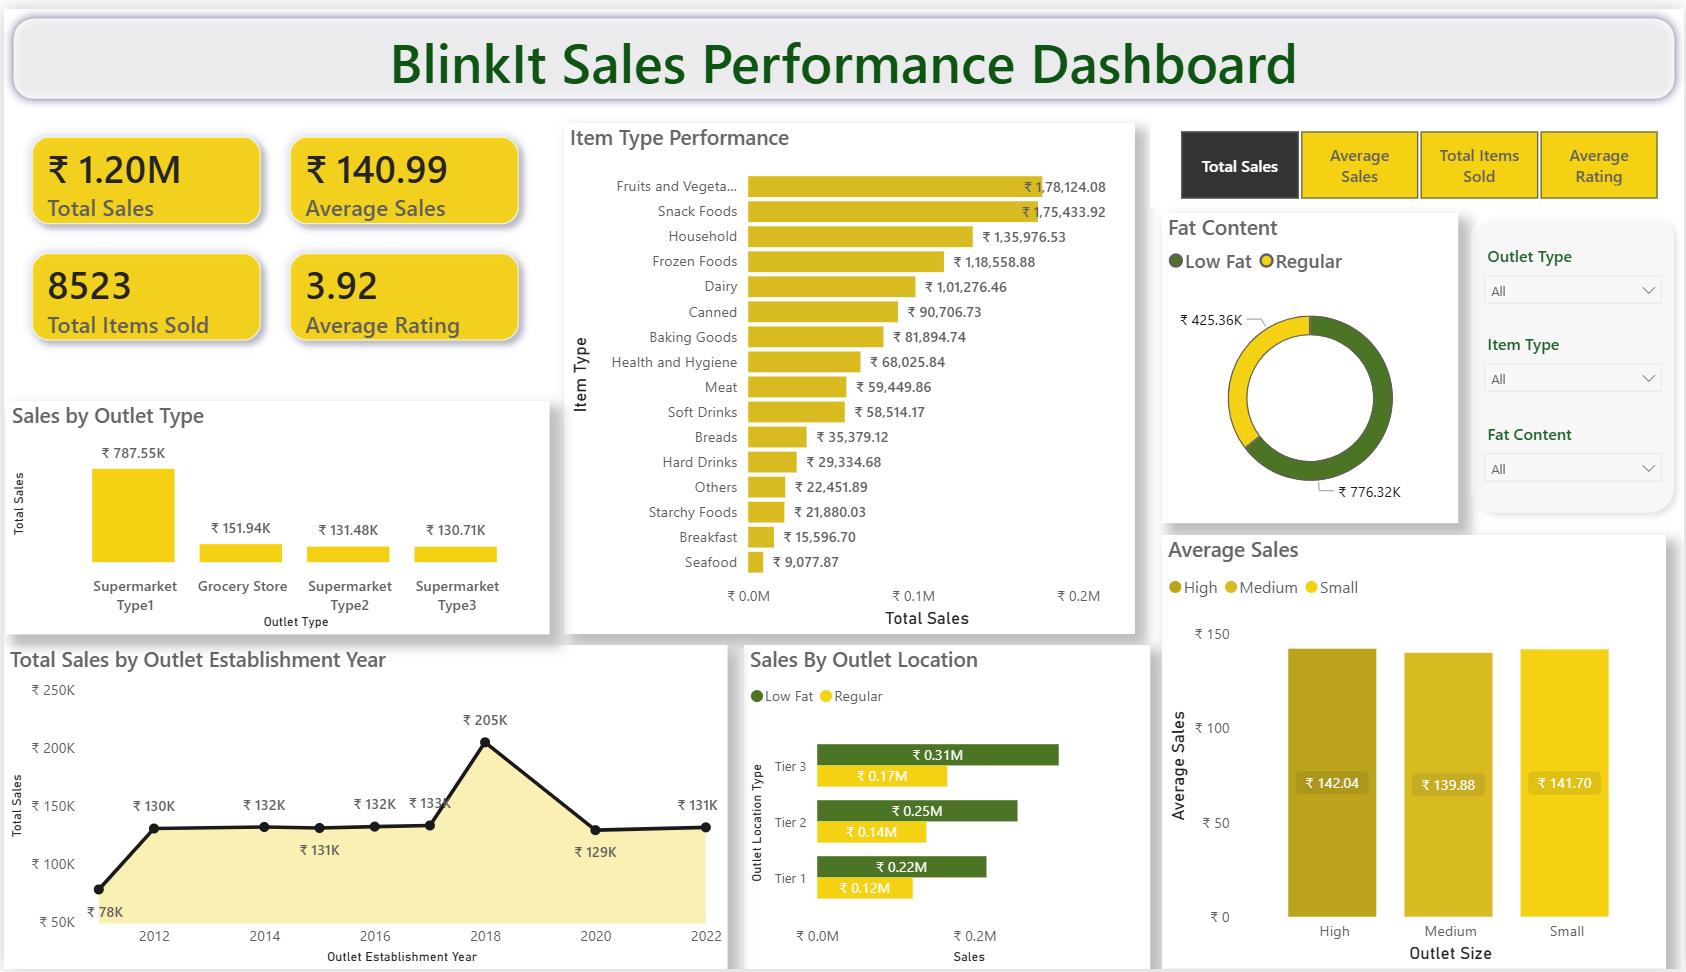

The page's visual inventory and layout, read from the dashboard file:
{"tool":"powerbi","page":{"name":"Page 1","canvas":[1400,800],"ordinal":0},"visuals":[{"type":"cardVisual","fields":{"Data":["BlinkIT-Grocery-Data.Total Sales","BlinkIT-Grocery-Data.Average Sales","BlinkIT-Grocery-Data.Total Items Sold","BlinkIT-Grocery-Data.Average Rating"]},"box":[0,82.9,452.9,217.1],"z":0},{"type":"shape","box":[0,0,1400,82.9],"z":1000},{"type":"donutChart","title":"Fat Content","fields":{"Y":["BlinkIT-Grocery-Data.Total Sales"],"Category":["BlinkIT-Grocery-Data.Itenm_Fat _Content"]},"box":[965.7,170,247.1,258.6],"z":2000},{"type":"barChart","title":"Item Type Performance","fields":{"Y":["BlinkIT-Grocery-Data.Total Sales"],"Category":["BlinkIT-Grocery-Data.Item Type"]},"box":[467.1,95.7,475.7,425.7],"z":3000},{"type":"slicer","fields":{"Values":["Metrics.Metrics"]},"box":[955.7,95.7,447.1,70],"z":4000},{"type":"clusteredBarChart","title":"Sales By Outlet Location","fields":{"Category":["BlinkIT-Grocery-Data.Outlet Location Type"],"Y":["Sum(BlinkIT-Grocery-Data.Sales)"],"Series":["BlinkIT-Grocery-Data.Itenm_Fat _Content"]},"box":[617.1,530,338.6,270],"z":5000},{"type":"lineChart","title":"Total Sales by Outlet Establishment Year","fields":{"Y":["Sum(BlinkIT-Grocery-Data.Sales)"],"Category":["BlinkIT-Grocery-Data.Outlet Establishment Year"]},"box":[0,530,602.9,270],"z":6000},{"type":"columnChart","title":"Sales by Outlet Type","fields":{"Category":["BlinkIT-Grocery-Data.Outlet Type"],"Y":["Sum(BlinkIT-Grocery-Data.Sales)"]},"box":[1.4,327.1,452.9,194.3],"z":7000},{"type":"columnChart","title":"Average Sales","fields":{"Y":["Avg(BlinkIT-Grocery-Data.Sales)"],"Category":["BlinkIT-Grocery-Data.Outlet Size","BlinkIT-Grocery-Data.Item Type"],"Series":["BlinkIT-Grocery-Data.Outlet Size"]},"box":[965.7,438.6,420,361.4],"z":8000},{"type":"shape","box":[1212.9,160,187.1,268.6],"z":8001},{"type":"slicer","fields":{"Values":["BlinkIT-Grocery-Data.Outlet Type"]},"box":[1222.9,191.4,168.6,60],"z":8002},{"type":"slicer","fields":{"Values":["BlinkIT-Grocery-Data.Item Type"]},"box":[1222.9,264.3,168.6,60],"z":8004},{"type":"slicer","fields":{"Values":["BlinkIT-Grocery-Data.Itenm_Fat _Content"]},"box":[1222.9,340,168.6,60],"z":8005}]}

Visuals, with their boxes in screenshot pixels (x1, y1, x2, y2), scaled from the page's 1400x800 canvas onto the 1686x972 screenshot:
cardVisual - BlinkIT-Grocery-Data.Total Sales x BlinkIT-Grocery-Data.Average Sales: 0:101:545:364
shape: 0:0:1685:101
"Fat Content" donutChart: 1163:207:1461:521
"Item Type Performance" barChart: 563:116:1135:634
slicer - Metrics.Metrics: 1151:116:1685:201
"Sales By Outlet Location" clusteredBarChart: 743:644:1151:971
"Total Sales by Outlet Establishment Year" lineChart: 0:644:726:971
"Sales by Outlet Type" columnChart: 2:397:547:634
"Average Sales" columnChart: 1163:533:1669:971
shape: 1461:194:1685:521
slicer - BlinkIT-Grocery-Data.Outlet Type: 1473:233:1676:305
slicer - BlinkIT-Grocery-Data.Item Type: 1473:321:1676:394
slicer - BlinkIT-Grocery-Data.Itenm_Fat _Content: 1473:413:1676:486
